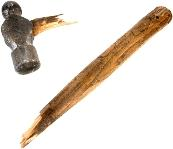hammer: (0, 0, 79, 75)
